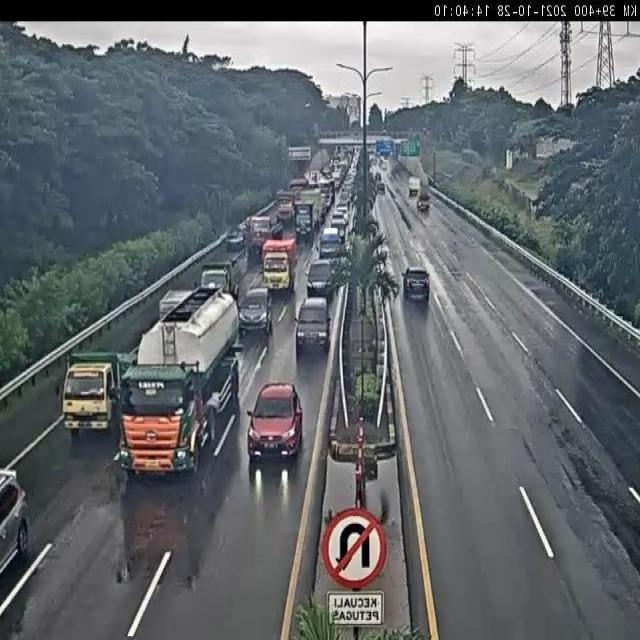Car: (244, 372, 311, 466), (0, 469, 29, 582), (238, 284, 274, 338), (306, 258, 338, 299), (403, 268, 430, 304)
Truck: (121, 283, 242, 477), (120, 475, 198, 580), (62, 350, 132, 437), (294, 297, 332, 355), (334, 278, 355, 380), (261, 238, 297, 294), (199, 260, 240, 303), (158, 289, 195, 324), (362, 159, 385, 214), (247, 215, 274, 261), (372, 257, 398, 302), (350, 468, 374, 515), (271, 131, 288, 195), (330, 440, 376, 463), (294, 200, 316, 244), (328, 256, 351, 288), (319, 227, 342, 258), (116, 353, 135, 390), (372, 437, 396, 465), (226, 226, 246, 258), (315, 174, 335, 205), (276, 189, 297, 215), (361, 451, 378, 482), (317, 136, 357, 148), (363, 214, 380, 242), (228, 253, 243, 281), (530, 284, 556, 300), (342, 178, 356, 206), (288, 146, 312, 162), (290, 159, 308, 179), (334, 204, 349, 227), (319, 192, 332, 218), (349, 149, 361, 177), (281, 228, 297, 249), (369, 160, 382, 184), (336, 216, 348, 242), (1, 468, 18, 486), (243, 217, 256, 240), (331, 168, 344, 190), (290, 186, 304, 206), (270, 214, 284, 234), (331, 148, 343, 170), (376, 243, 388, 264), (408, 177, 420, 197), (418, 192, 430, 212), (320, 167, 333, 185), (319, 128, 337, 140), (437, 170, 455, 182), (344, 236, 354, 257), (308, 170, 320, 186), (367, 142, 379, 157), (343, 146, 355, 161), (130, 344, 140, 362), (238, 225, 248, 242), (421, 126, 432, 140), (312, 122, 320, 141), (394, 140, 402, 158), (232, 344, 244, 356), (451, 269, 463, 281), (464, 236, 476, 248), (428, 175, 439, 188), (225, 230, 236, 243), (367, 193, 374, 213), (369, 153, 378, 168), (448, 263, 458, 276), (506, 149, 512, 170), (412, 139, 421, 153), (350, 118, 360, 130), (216, 233, 226, 244), (206, 281, 218, 290), (390, 147, 398, 159), (377, 133, 387, 141), (451, 239, 458, 248), (382, 160, 388, 170)
